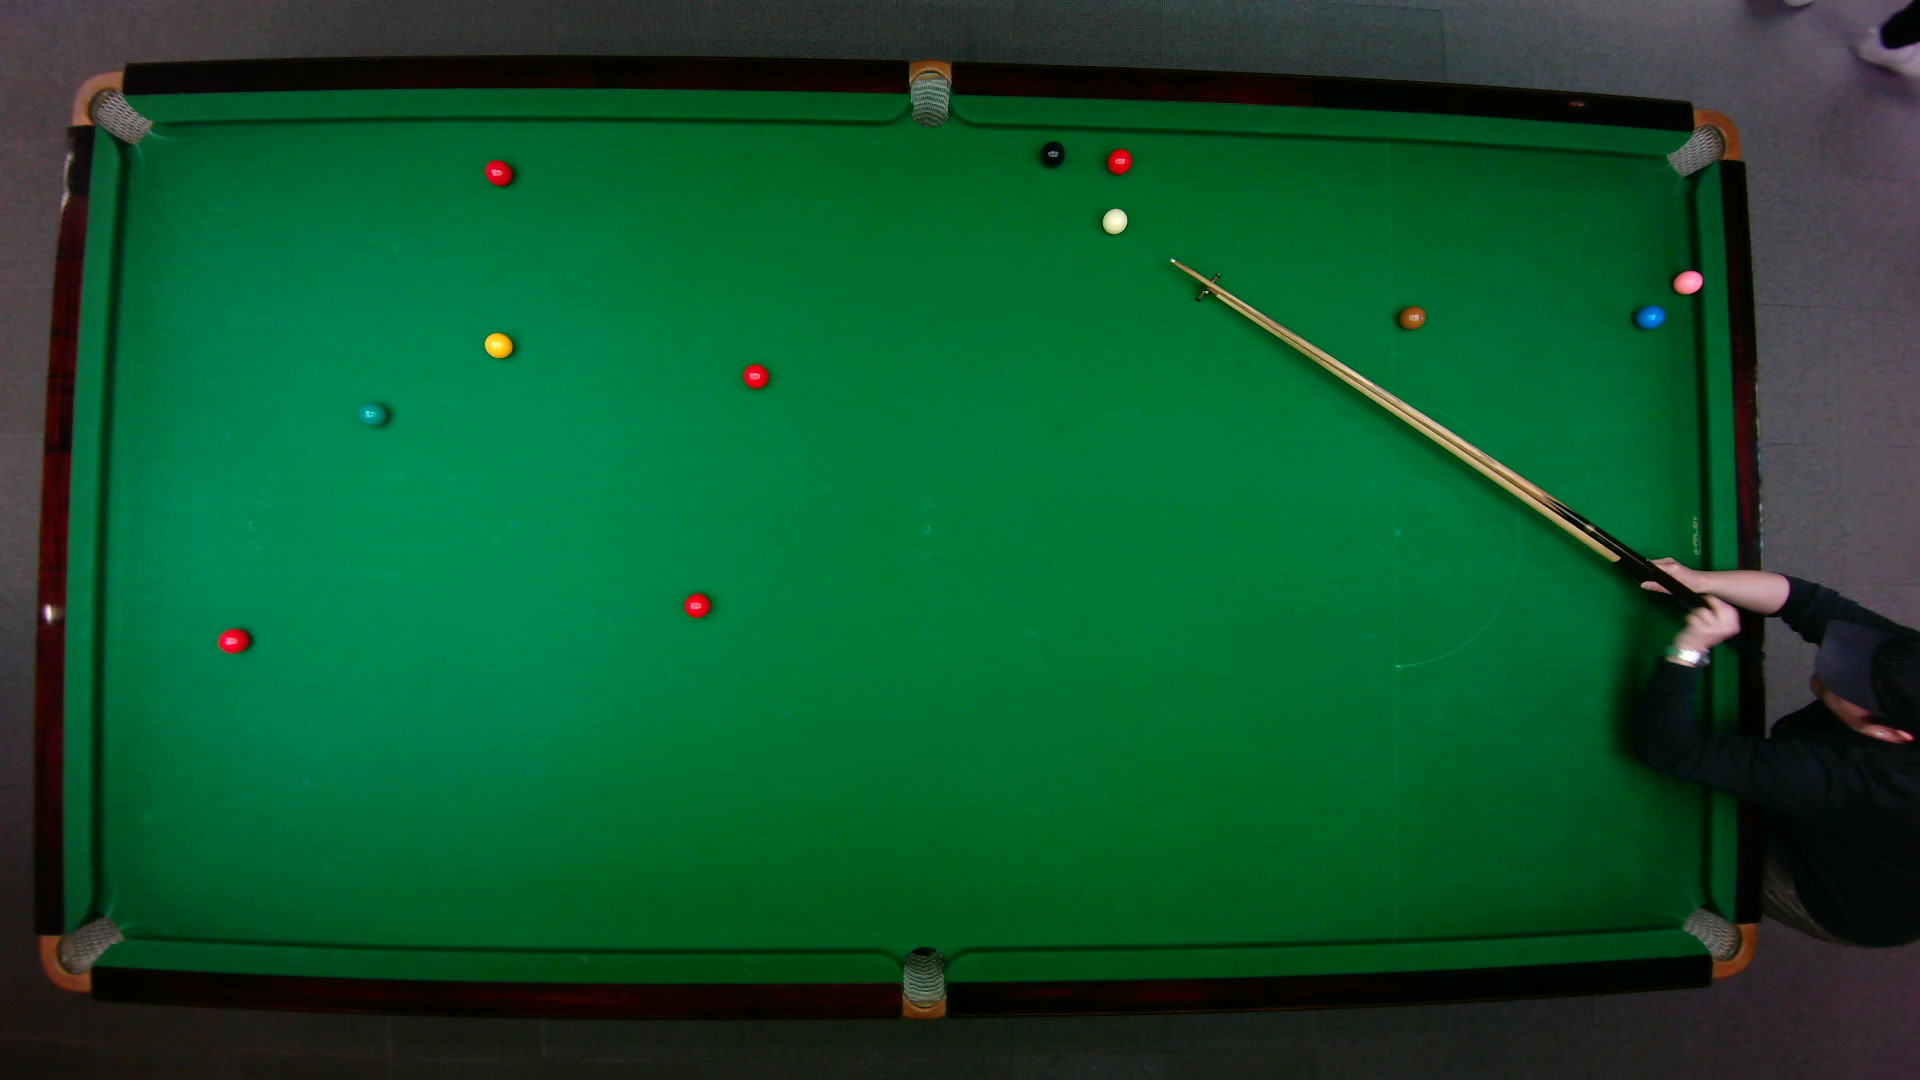bag: (37, 913, 125, 992), (69, 69, 153, 145), (1677, 905, 1756, 978), (1663, 107, 1742, 177), (901, 944, 944, 1021), (909, 57, 949, 128)
black: (1040, 141, 1064, 166)
blue: (1634, 303, 1665, 328)
brown: (1396, 305, 1425, 328)
cue: (1167, 251, 1768, 673)
green: (356, 400, 386, 427)
pink: (1669, 266, 1704, 295)
red: (215, 625, 251, 653), (1104, 146, 1133, 175), (483, 158, 513, 186), (741, 361, 769, 389), (682, 591, 709, 618)
white: (1098, 206, 1129, 235)
yellow: (483, 330, 514, 359)
zone: (1386, 398, 1516, 671)
